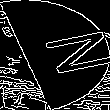N_W: (9, 28, 101, 82)
